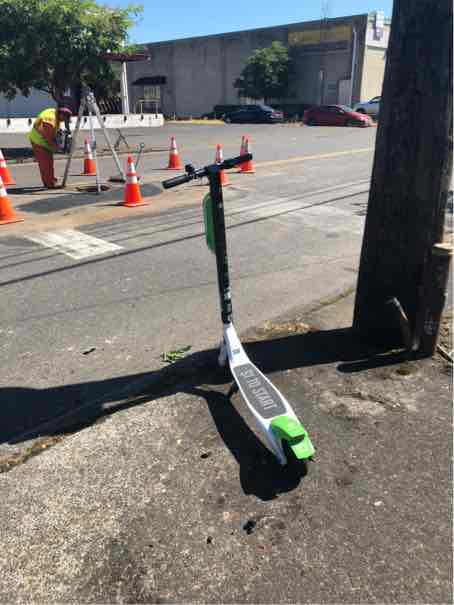scooter: (155, 150, 335, 484)
